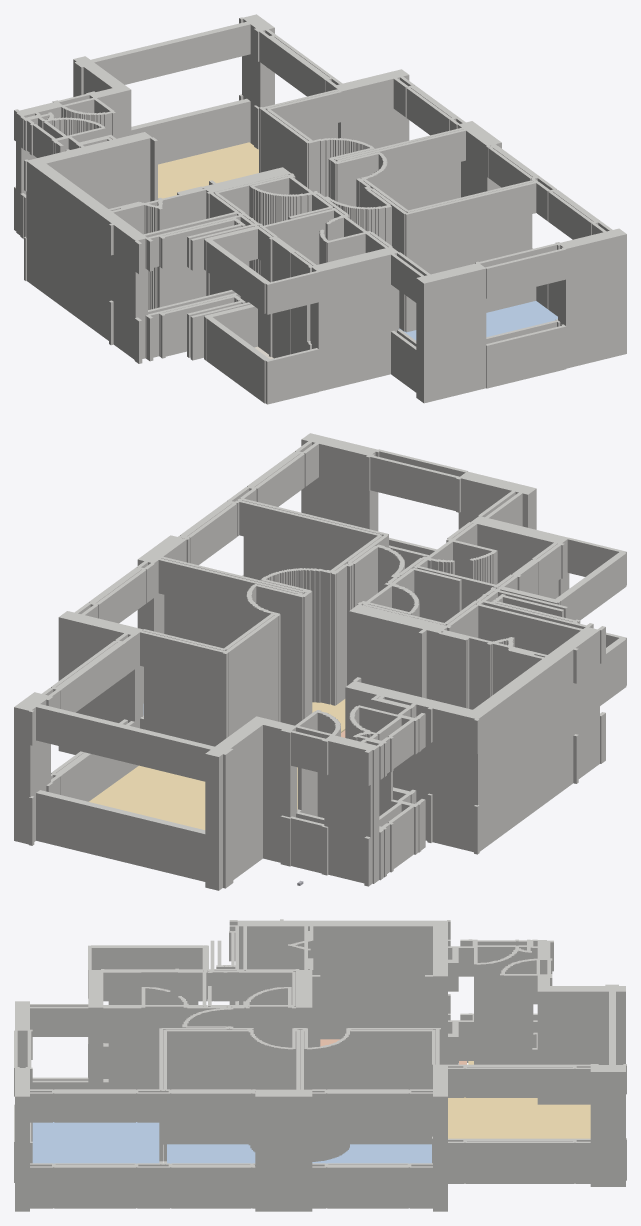
3 renders of one model, top to bottom at view 1: azimuth 30°, elevation 25°; view 2: azimuth 150°, elevation 25°; view 3: azimuth 270°, elevation 25°, orthographic. The views are drawn at different scales.
Visible parts, largest first — view 1: walls, room:living:0, room:bedroom:7; view 2: walls, room:living:0; view 3: walls, room:living:0, room:bedroom:7, room:bedroom:2, room:bedroom:5.
Boxes of the visible parts, bbox=[...] form: walls: bbox=[14, 14, 626, 404]; room:living:0: bbox=[158, 142, 258, 198]; room:bedroom:7: bbox=[399, 301, 557, 340]; walls: bbox=[14, 433, 626, 890]; room:living:0: bbox=[89, 699, 345, 829]; walls: bbox=[14, 919, 626, 1211]; room:living:0: bbox=[448, 1061, 590, 1138]; room:bedroom:7: bbox=[32, 1122, 159, 1163]; room:bedroom:2: bbox=[312, 1144, 431, 1163]; room:bedroom:5: bbox=[167, 1144, 255, 1163].
Bounding box in the file's own units: 9.26 × 2.8 × 13.52.
